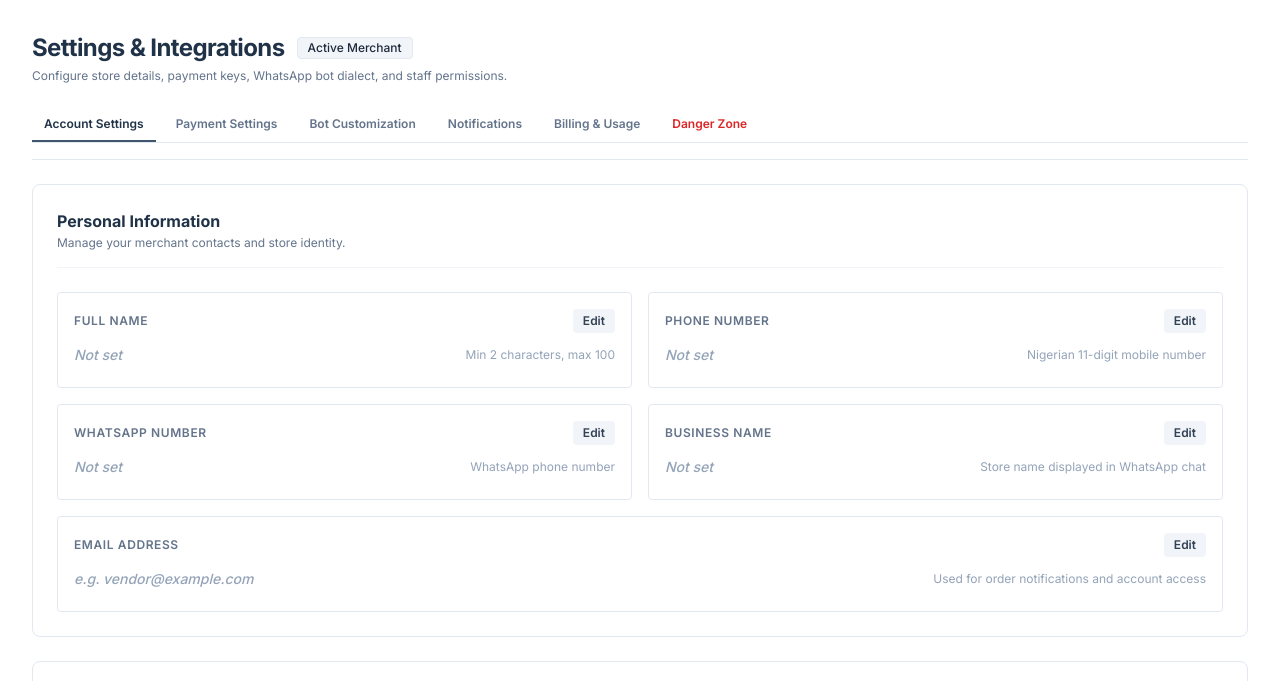
Scenario: Settings Page & Subcomponents › Main SettingsPage & Navigation › switches between tabs when clicked
Expected: the heading "Personal Information" is shown, x1=57 y1=211 x2=220 y2=231
Switch to Payment Settings
Click the button "Payment Settings" at (227, 125), box x1=164 y1=108 x2=290 y2=142
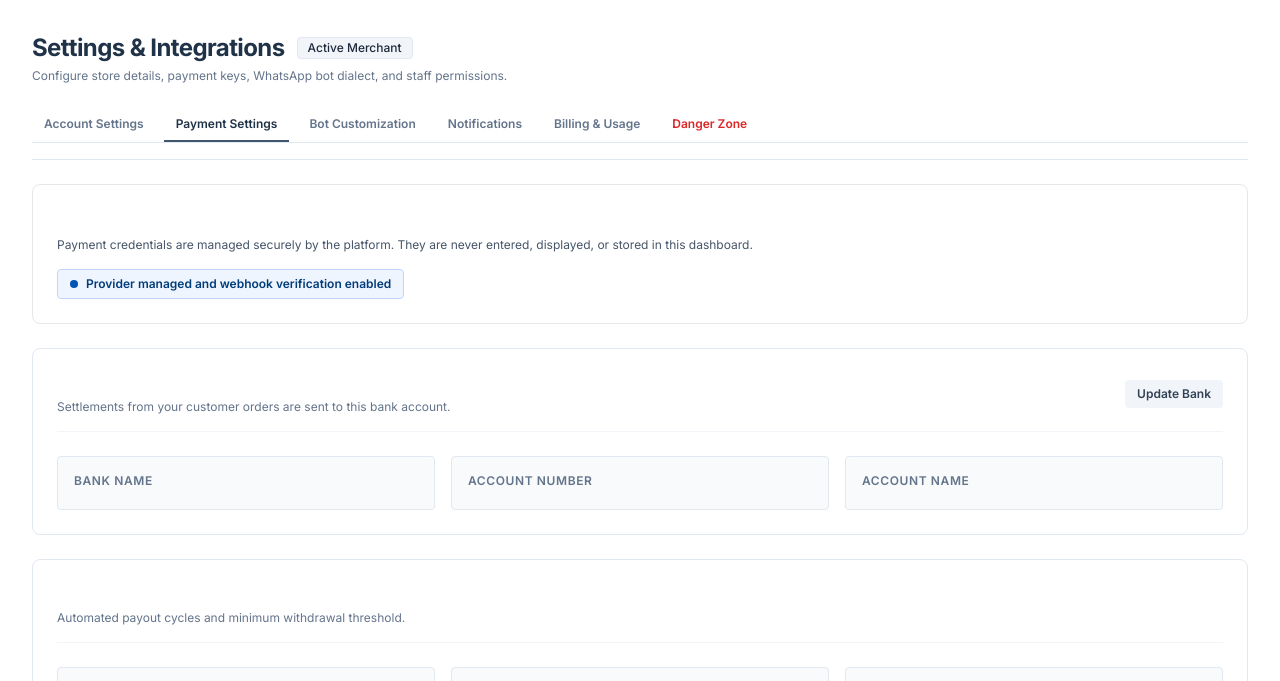
Switch to Bot Customization
Click the button "Bot Customization" at (363, 125), box x1=297 y1=108 x2=428 y2=142
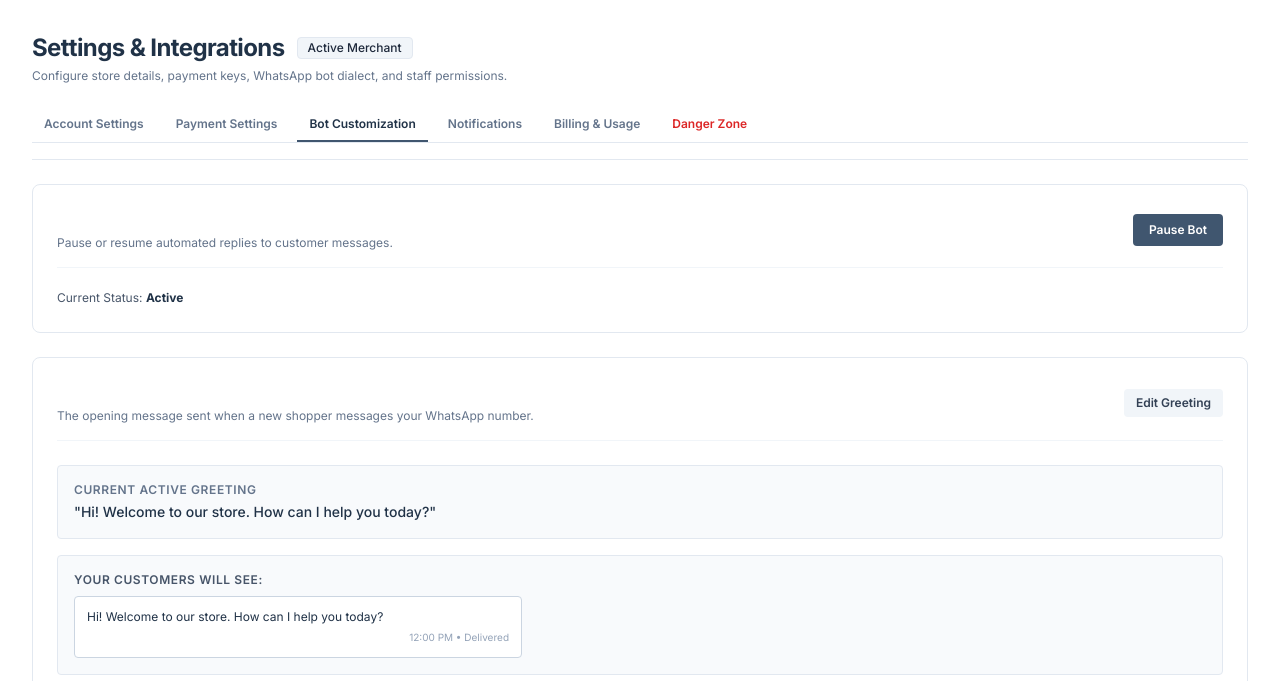
Result: the text "Your customers will see:" is shown at x1=74 y1=572 x2=263 y2=587
Switch to Notifications
Click the button "Notifications" at (485, 125), box x1=436 y1=108 x2=534 y2=142
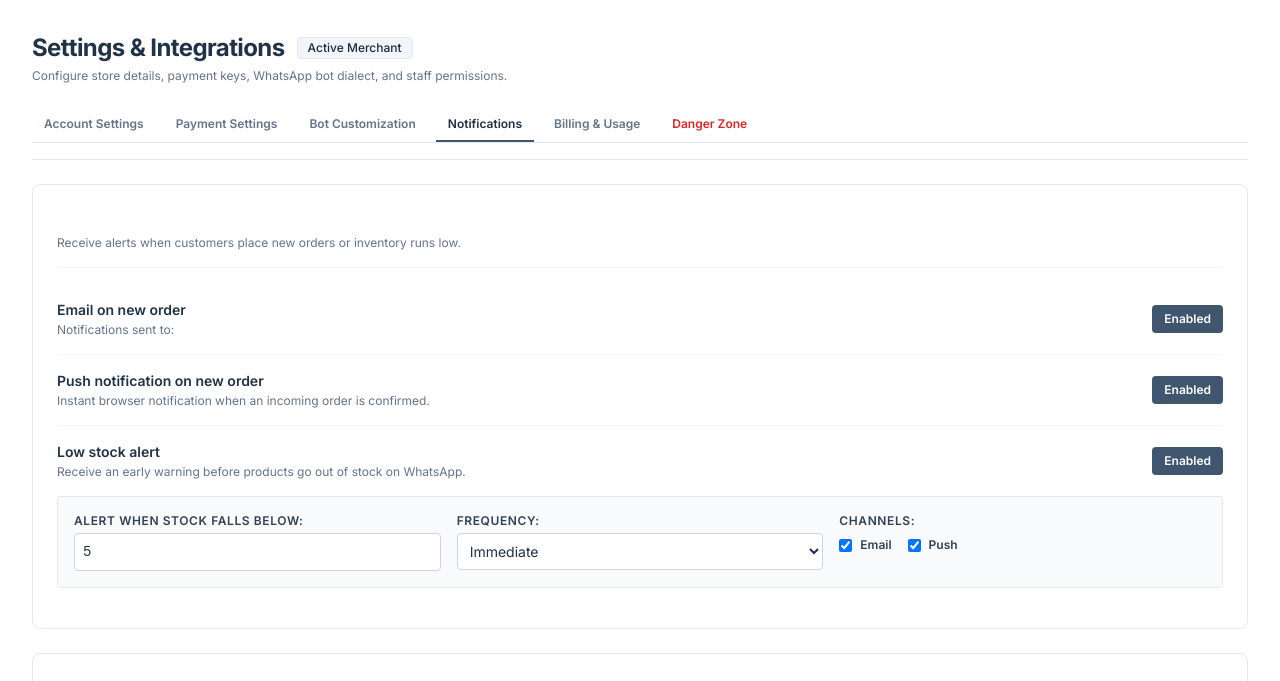
Switch to Billing & Usage
Click the button "Billing & Usage" at (597, 125), box x1=542 y1=108 x2=652 y2=142
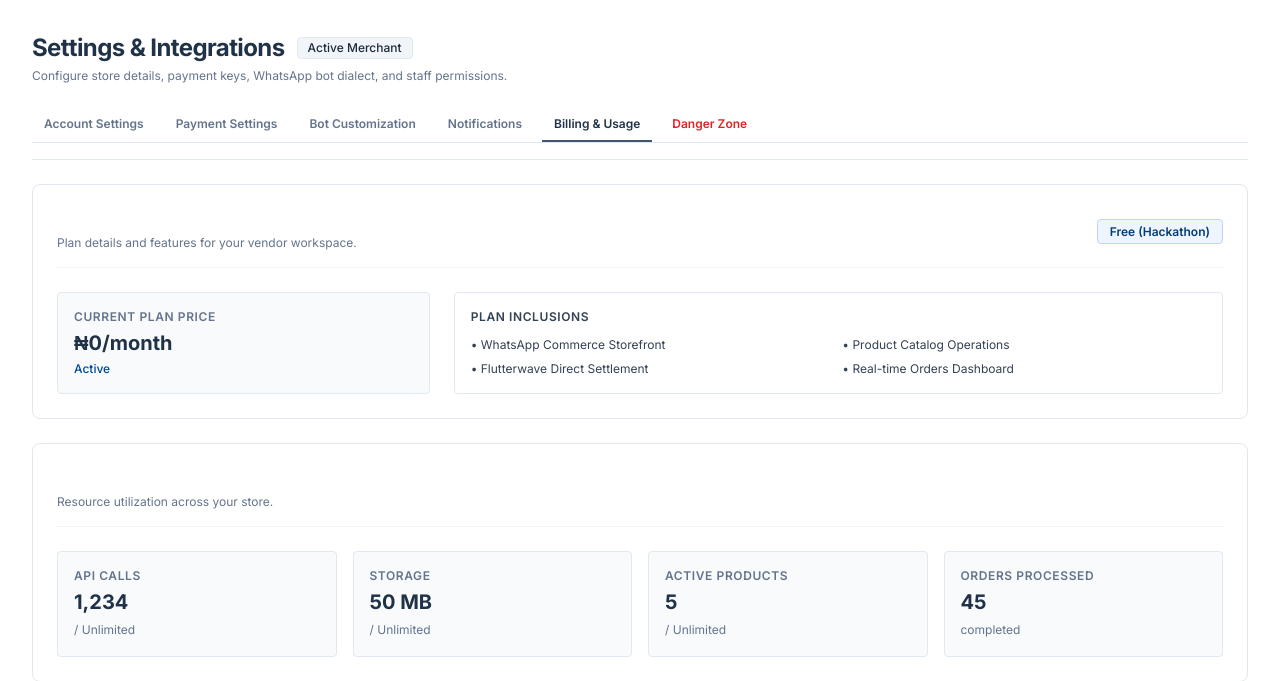
Switch to Danger Zone
Click the button "Danger Zone" at (710, 125), box x1=660 y1=108 x2=759 y2=142
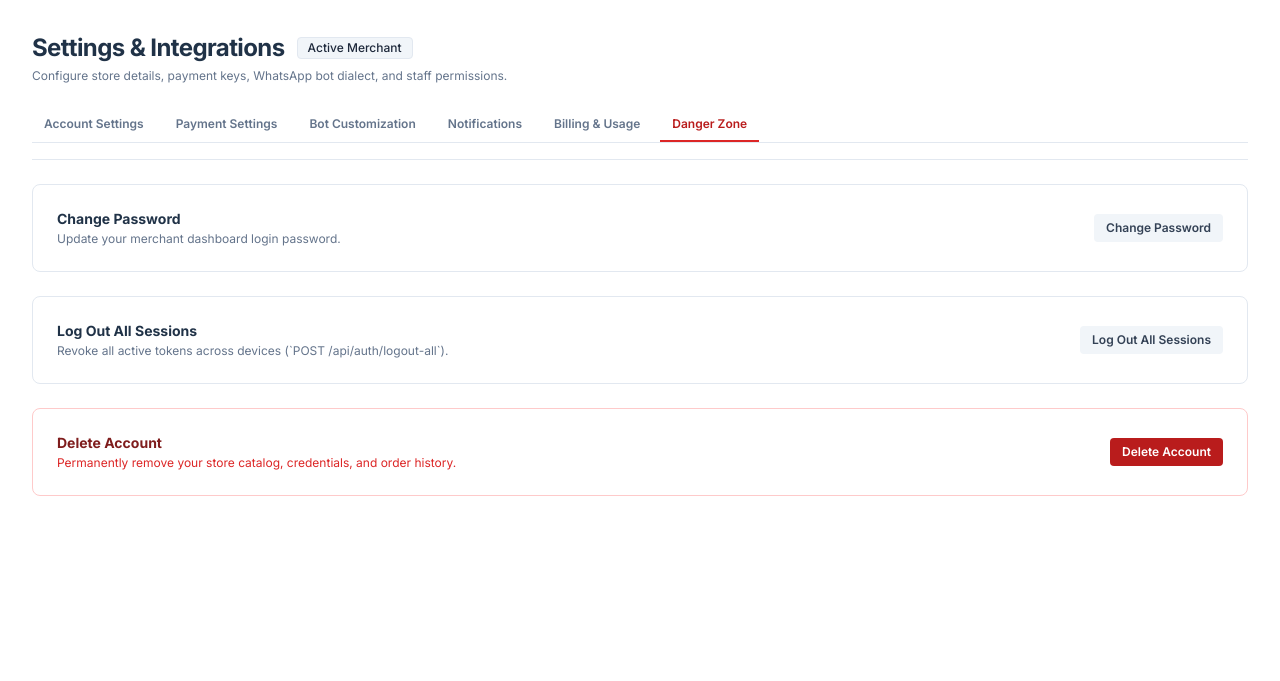
Result: the heading "Change Password" is shown at x1=57 y1=210 x2=181 y2=227
Result: the heading "Log Out All Sessions" is shown at x1=57 y1=322 x2=197 y2=339
Result: the heading "Delete Account" is shown at x1=57 y1=434 x2=162 y2=451
